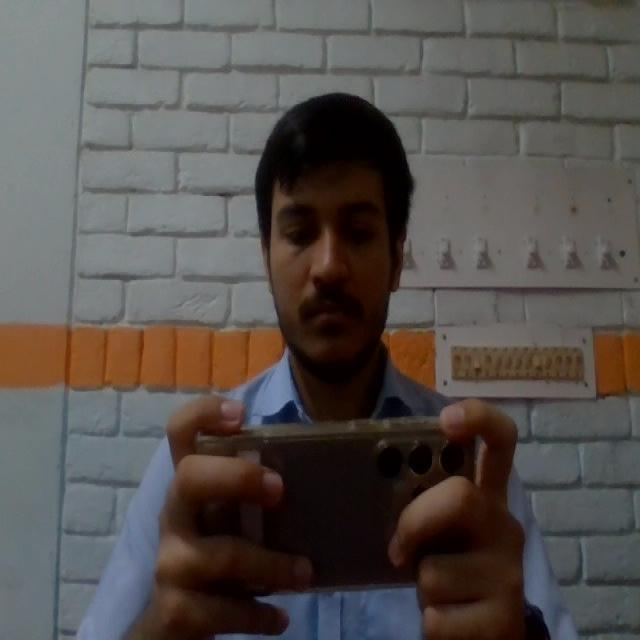phone: (180, 426, 500, 600)
using-phone: (81, 82, 584, 640)
